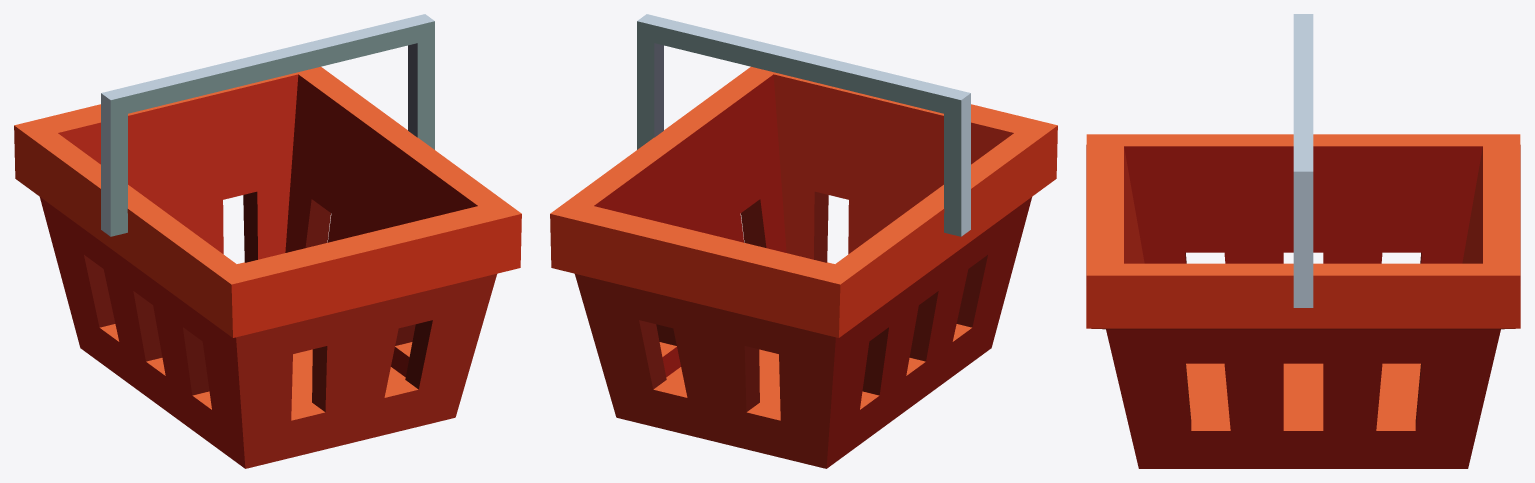
Rendered from Basket.fbx.
3 renders of one model, left to right at view 1: azimuth 30°, elevation 25°; view 2: azimuth 150°, elevation 25°; view 3: azimuth 270°, elevation 25°, orthographic.
Parts seen in each view (by area): view 1: Basket; view 2: Basket; view 3: Basket.
Boxes of the visible parts, bbox=[...] form: Basket: bbox=[14, 14, 521, 468]; Basket: bbox=[550, 14, 1057, 468]; Basket: bbox=[1086, 14, 1520, 468].
Size of the model in its own units: 281 by 270 by 327.
